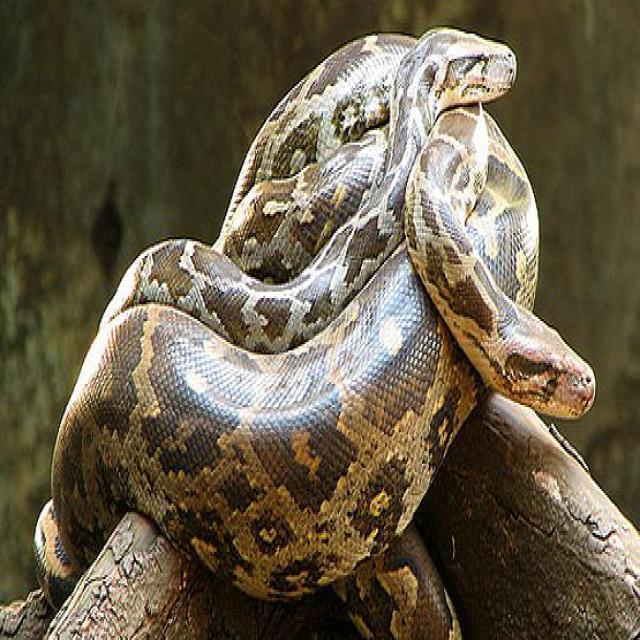Snake: (32, 23, 596, 636)
